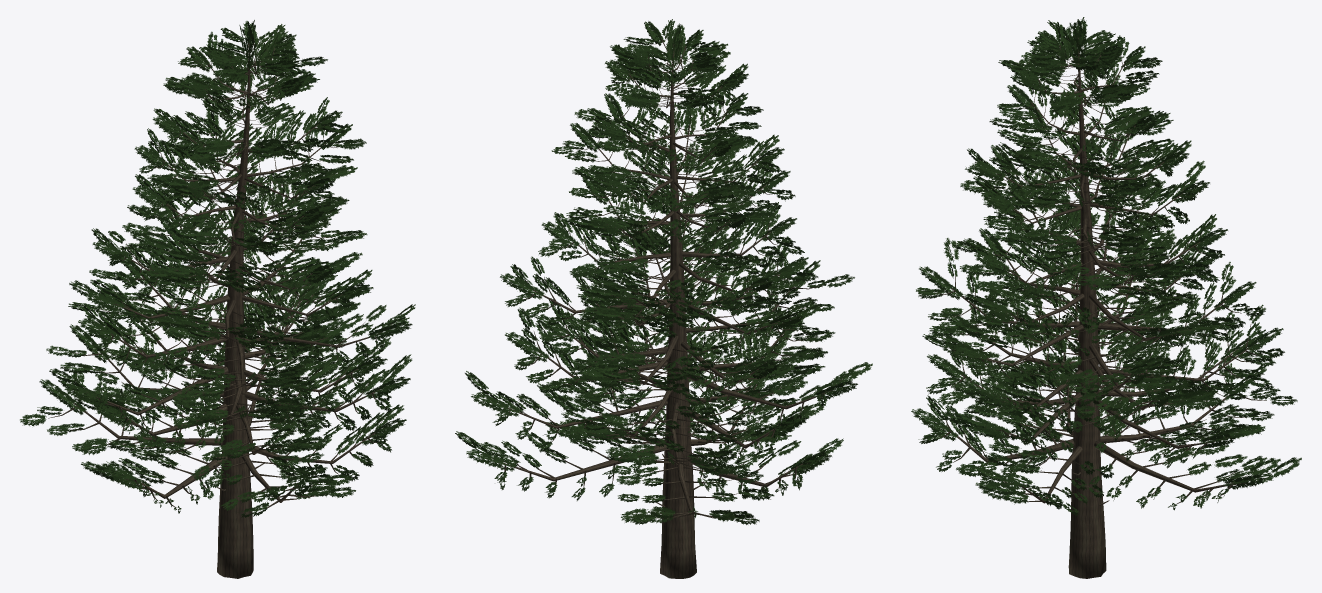
File: pine-natural-1.glb
3 renders of one model, left to right at view 1: azimuth 30°, elevation 25°; view 2: azimuth 150°, elevation 25°; view 3: azimuth 270°, elevation 25°, orthographic. The views are drawn at different scales.
Parts seen in each view (by area): view 1: pine-natural-1 / Layered pine needle cutouts, pine-natural-1 / Rain dark fissured pine bark; view 2: pine-natural-1 / Layered pine needle cutouts, pine-natural-1 / Rain dark fissured pine bark; view 3: pine-natural-1 / Layered pine needle cutouts, pine-natural-1 / Rain dark fissured pine bark.
Boxes of the visible parts, x1,y1,x2,y2 form: pine-natural-1 / Layered pine needle cutouts: [20, 20, 415, 517]; pine-natural-1 / Rain dark fissured pine bark: [48, 38, 397, 578]; pine-natural-1 / Layered pine needle cutouts: [455, 19, 872, 524]; pine-natural-1 / Rain dark fissured pine bark: [492, 36, 845, 578]; pine-natural-1 / Layered pine needle cutouts: [911, 17, 1301, 516]; pine-natural-1 / Rain dark fissured pine bark: [936, 35, 1267, 578].
Bounding box in the file's own units: 4.9 × 7.3 × 4.75.
Materials: 2 (2 with a texture image).
